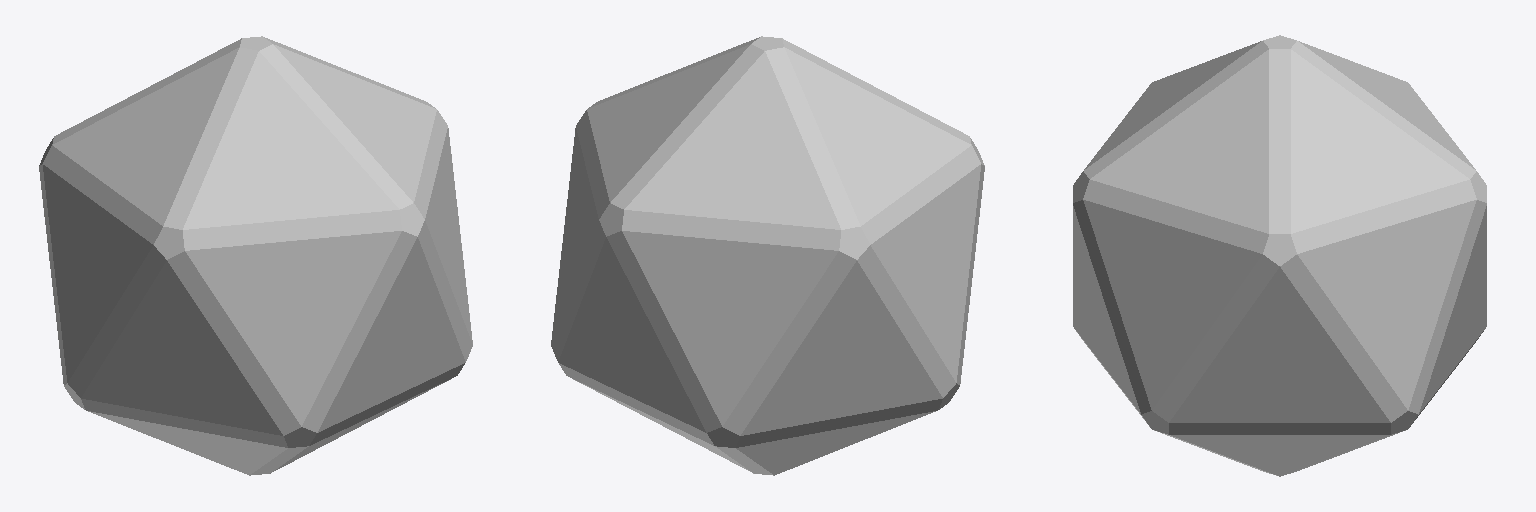
The model's file is icosahedron.obj.
3 views of the same model, side by side, from view 1: azimuth 30°, elevation 25°; view 2: azimuth 150°, elevation 25°; view 3: azimuth 270°, elevation 25° (orthographic).
Parts seen in each view (by area): view 1: Solid.001; view 2: Solid.001; view 3: Solid.001.
Boxes of the visible parts, x1,y1,x2,y2 form: Solid.001: [39, 36, 472, 475]; Solid.001: [551, 36, 984, 475]; Solid.001: [1073, 35, 1486, 476].
Bounding box in the file's own units: 1.47 × 1.59 × 1.4.